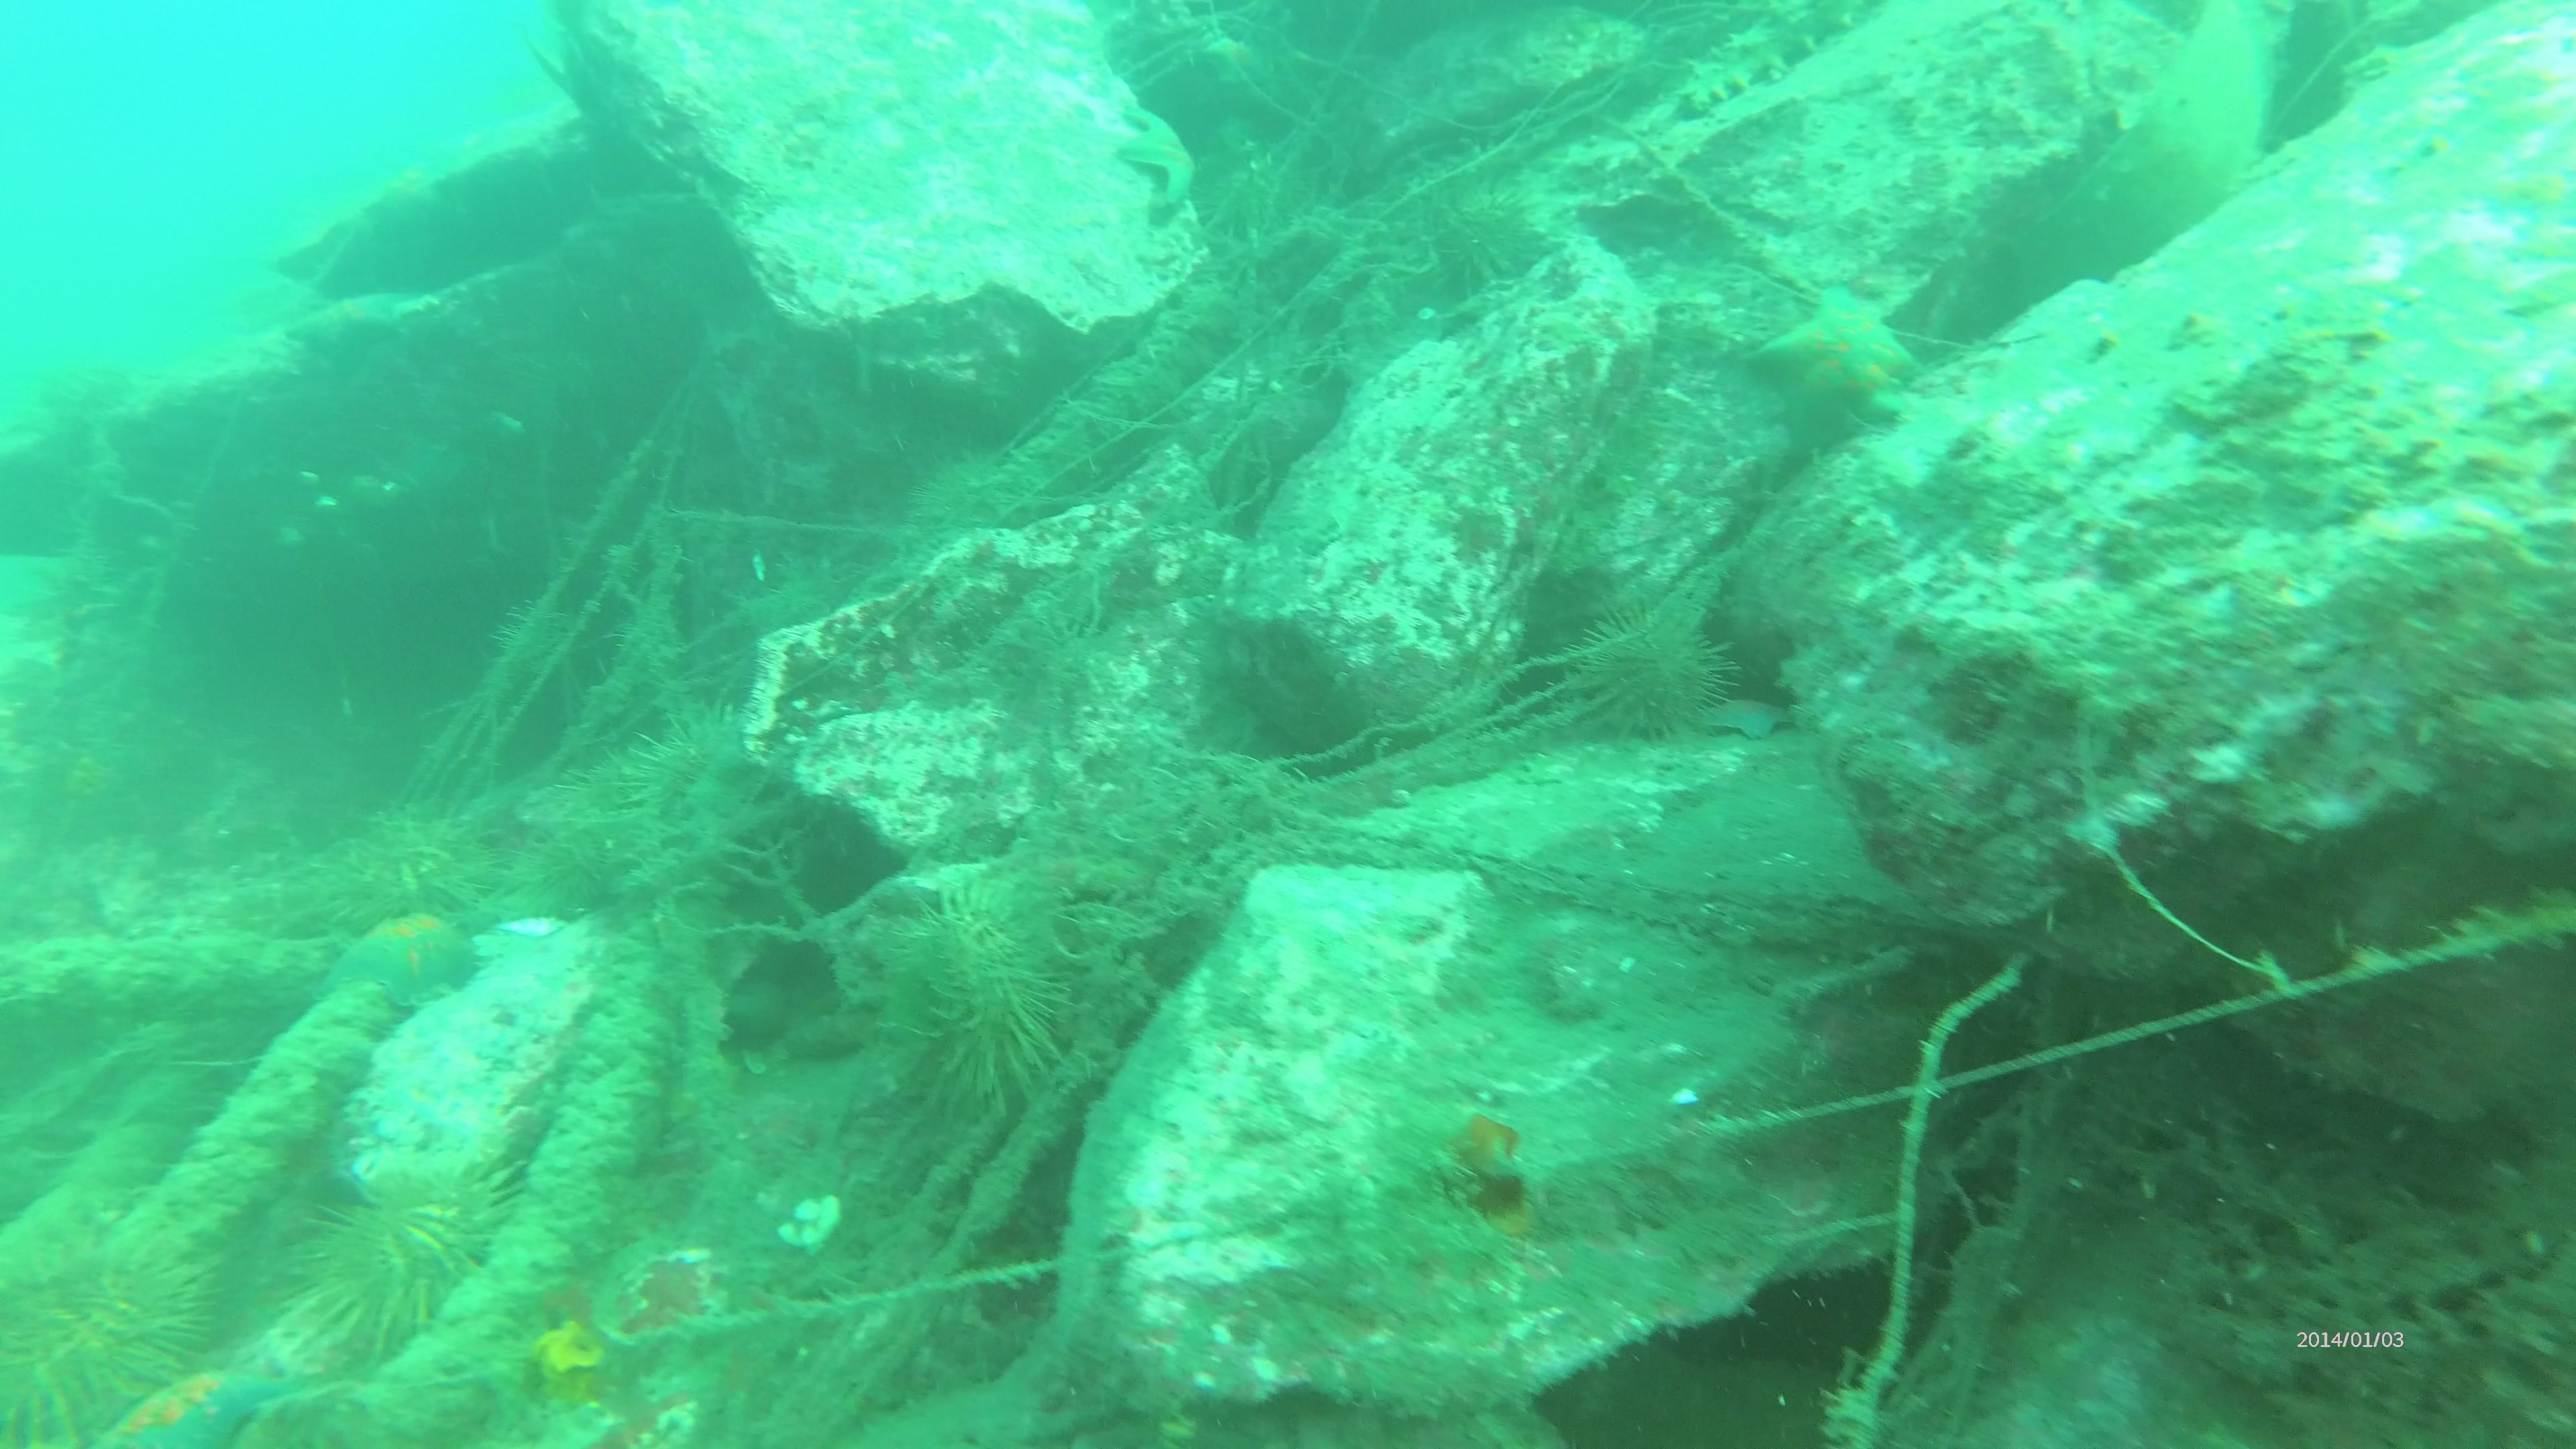echinus: (4, 1244, 223, 1440), (294, 1166, 518, 1357), (879, 893, 1072, 1086), (1560, 614, 1732, 747)
starfish: (1753, 278, 1930, 451), (324, 892, 478, 1037), (97, 1350, 283, 1449), (1115, 106, 1219, 226)
